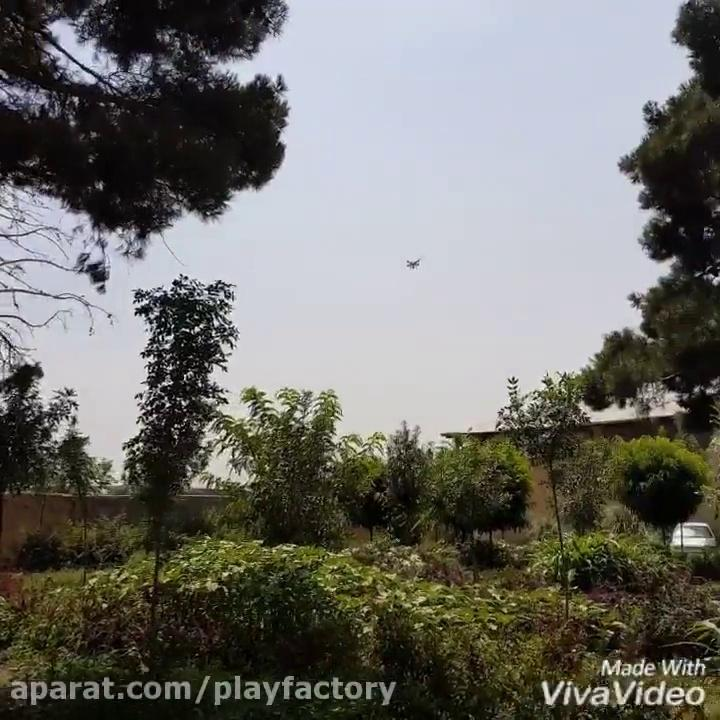drone: (404, 256, 424, 273)
